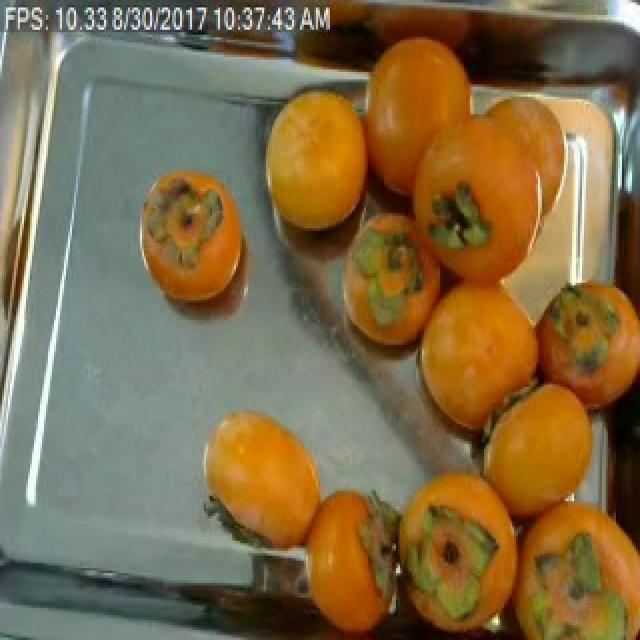Fruit: (190, 397, 340, 573), (246, 67, 386, 248), (128, 156, 258, 335), (290, 466, 416, 640)
